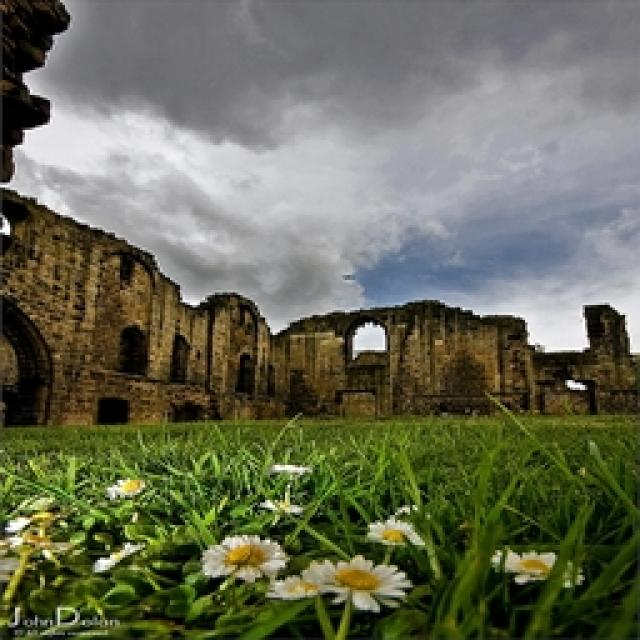Abbey: (2, 186, 640, 427)
